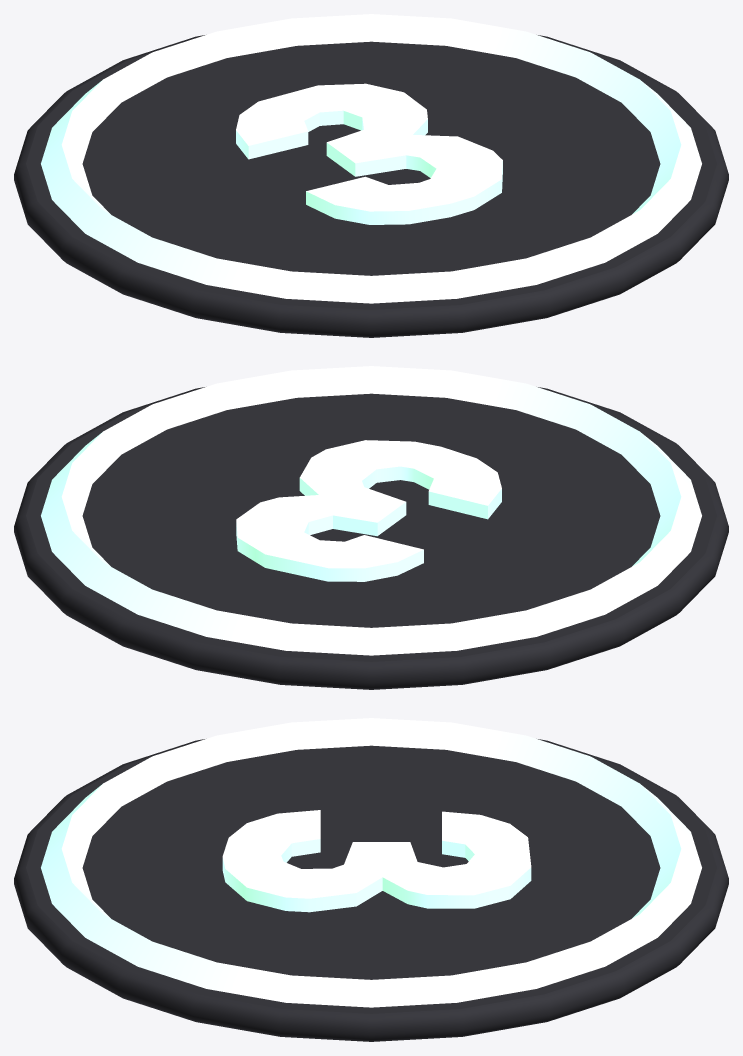
The model's file is kr_joinpad_3_on.glb.
3 views of the same model, one above another, from view 1: azimuth 30°, elevation 25°; view 2: azimuth 150°, elevation 25°; view 3: azimuth 270°, elevation 25° (orthographic).
Parts seen in each view (by area): view 1: vc_m0_r4, kr_joinpad_3_on_neongreen; view 2: vc_m0_r4, kr_joinpad_3_on_neongreen; view 3: vc_m0_r4, kr_joinpad_3_on_neongreen.
Boxes of the visible parts, x1,y1,x2,y2 form: vc_m0_r4: [14, 35, 728, 337]; kr_joinpad_3_on_neongreen: [41, 14, 701, 303]; vc_m0_r4: [14, 387, 728, 689]; kr_joinpad_3_on_neongreen: [41, 366, 701, 655]; vc_m0_r4: [14, 739, 728, 1041]; kr_joinpad_3_on_neongreen: [41, 718, 701, 1007].
Size of the model in its own units: 1.2 by 0.085 by 1.2.
